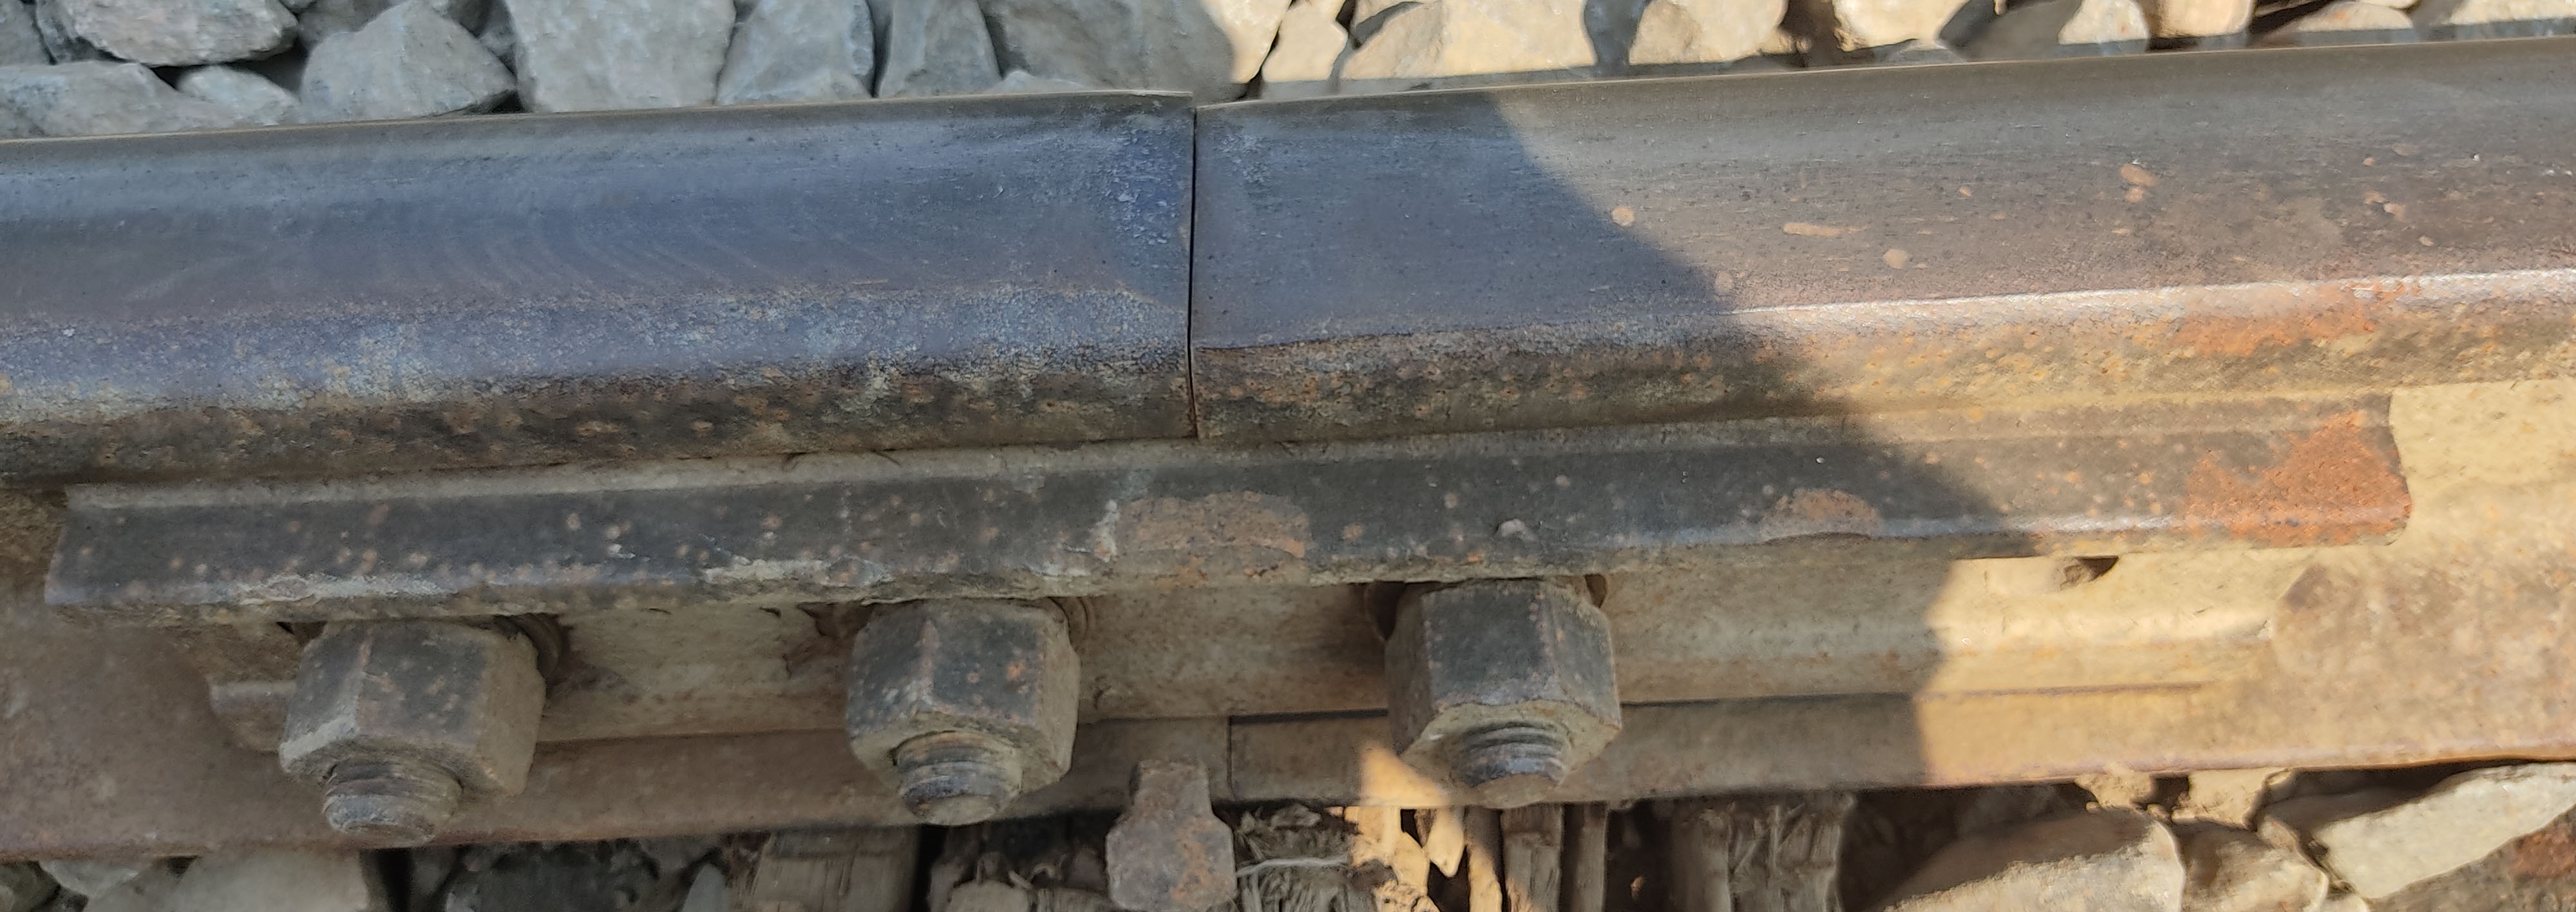error2: (1152, 54, 1276, 468)
